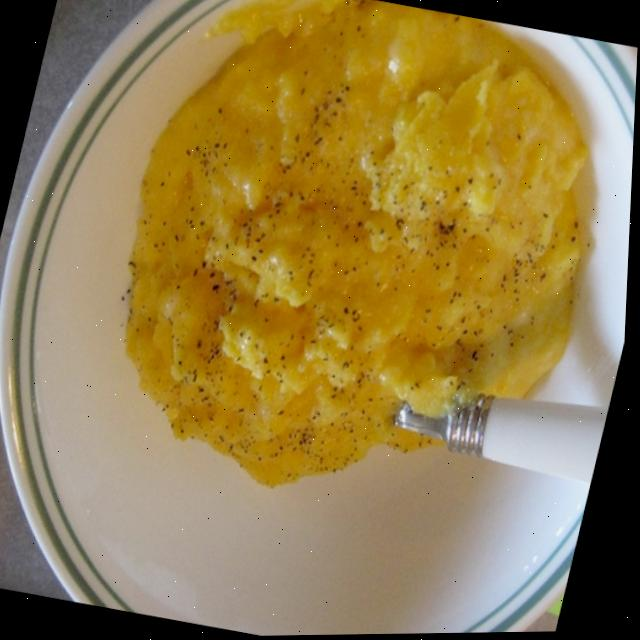鸡蛋料理: (64, 0, 640, 551)
